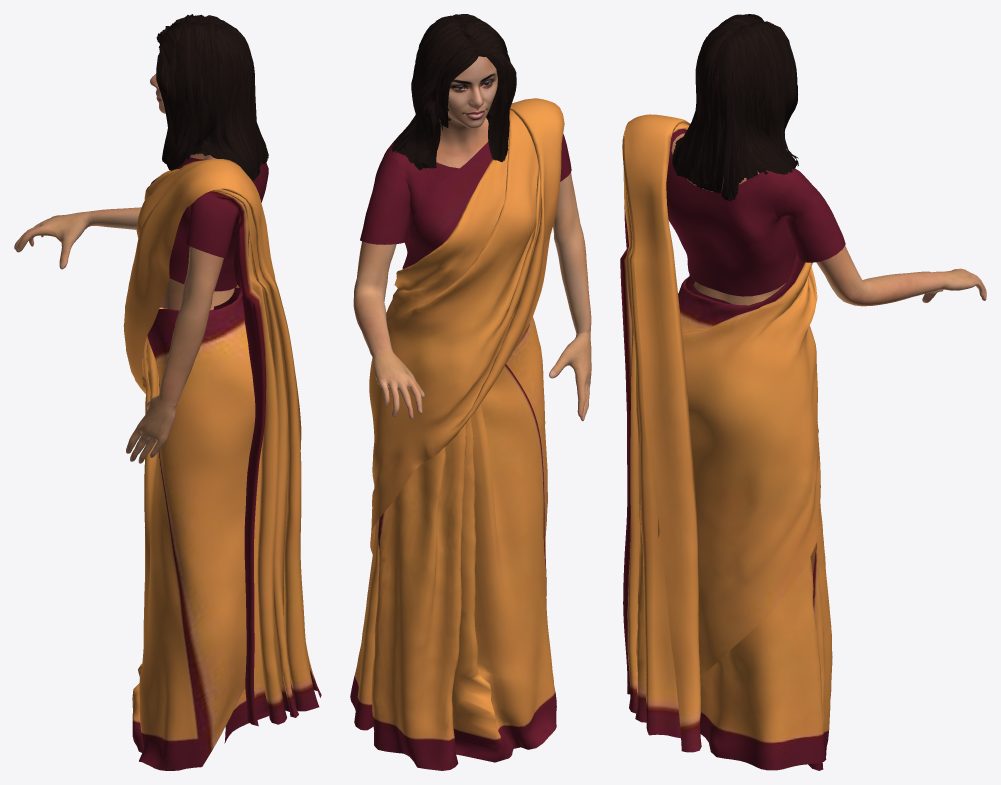
Rendered from Kitchen.gltf.
3 renders of one model, left to right at view 1: azimuth 30°, elevation 25°; view 2: azimuth 150°, elevation 25°; view 3: azimuth 270°, elevation 25°, orthographic.
Parts seen in each view (by area): view 1: Object_15.001, Object_16, Object_7.001; view 2: Object_15.001, Object_7.001, Object_16, Object_9.001; view 3: Object_15.001, Object_16, Object_7.001.
Part boxes in pixels (x1,y1,x2,y2): Object_15.001: (123, 157, 321, 770); Object_16: (156, 14, 268, 181); Object_7.001: (14, 207, 234, 463); Object_15.001: (350, 98, 571, 770); Object_7.001: (353, 173, 591, 420); Object_16: (392, 14, 516, 170); Object_9.001: (436, 56, 497, 168); Object_15.001: (620, 114, 845, 770); Object_16: (672, 14, 798, 200); Object_7.001: (671, 133, 986, 306).
Size of the model in its own units: 4.7 by 16.63 by 7.54.
7 materials, 6 textured.
